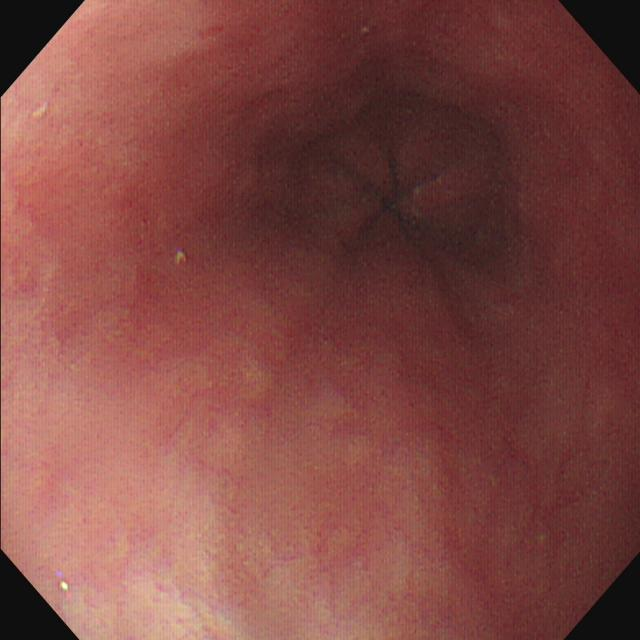I: (320, 101, 496, 274)
